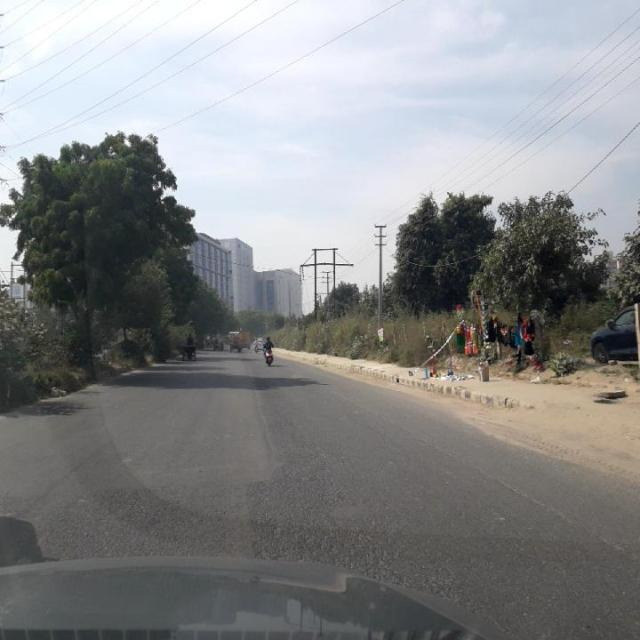crack: (470, 471, 628, 550), (238, 371, 296, 458), (388, 420, 468, 470)
